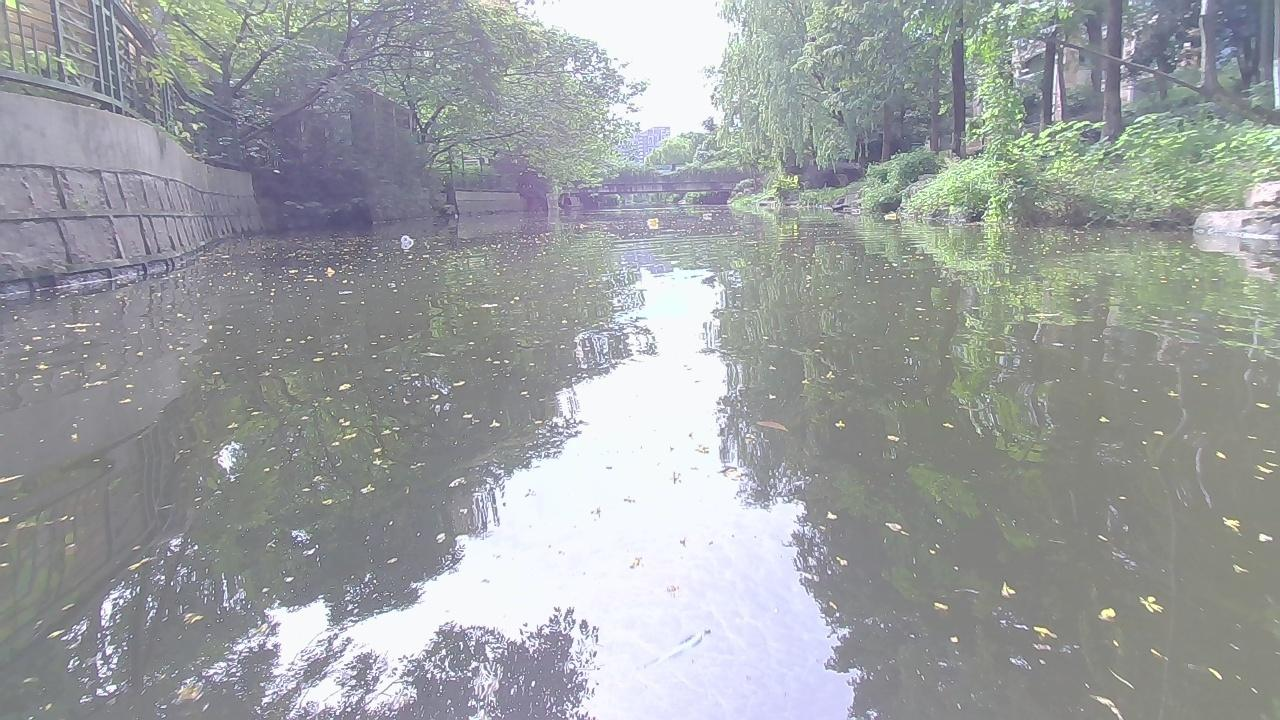bottle: (642, 217, 658, 226), (881, 213, 901, 220), (700, 211, 715, 218), (849, 208, 862, 216), (398, 234, 410, 242)
